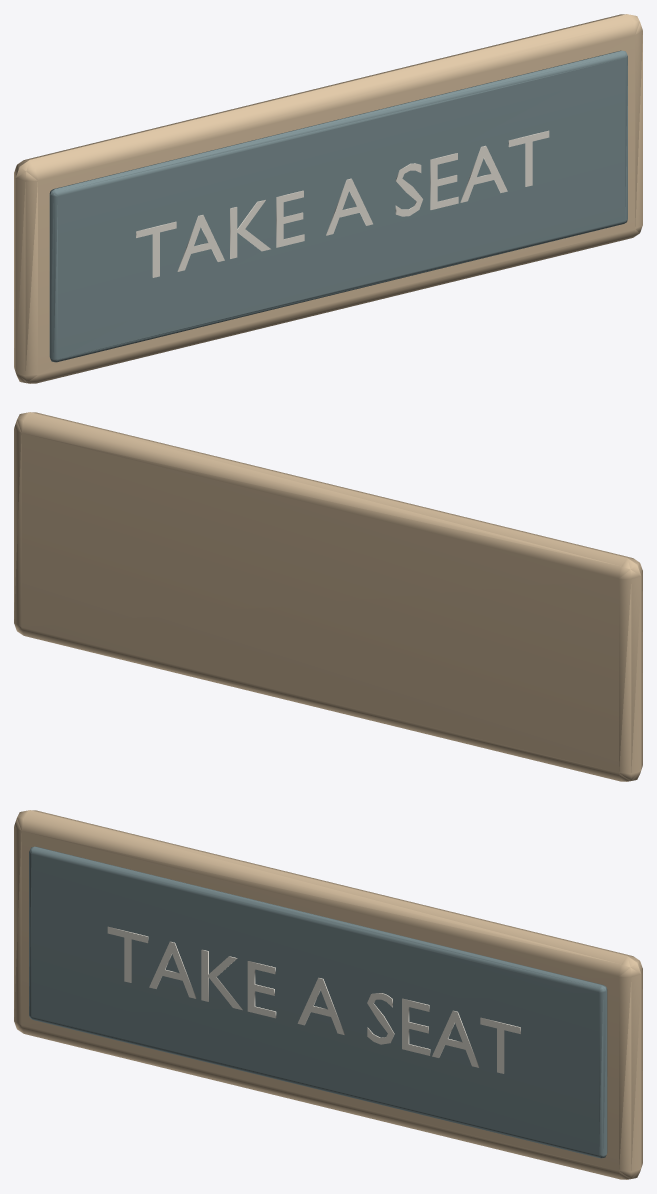
Rendered from DiningSign.fbx.
3 renders of one model, top to bottom at view 1: azimuth 30°, elevation 25°; view 2: azimuth 150°, elevation 25°; view 3: azimuth 330°, elevation 25°, orthographic.
Visible parts, largest first — view 1: DiningSign; view 2: DiningSign; view 3: DiningSign.
Part boxes in pixels (x1=…): DiningSign: x1=14, y1=14, x2=642, y2=383; DiningSign: x1=14, y1=412, x2=642, y2=781; DiningSign: x1=14, y1=810, x2=642, y2=1179.
Size of the model in its own units: 1.55 by 0.53 by 0.097.
